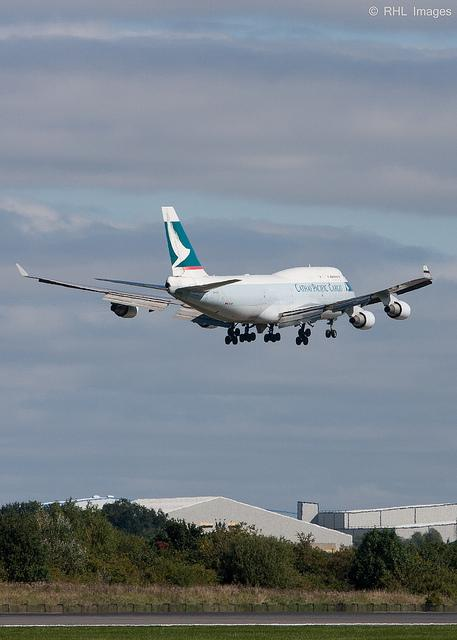airplane: (13, 203, 436, 349)
